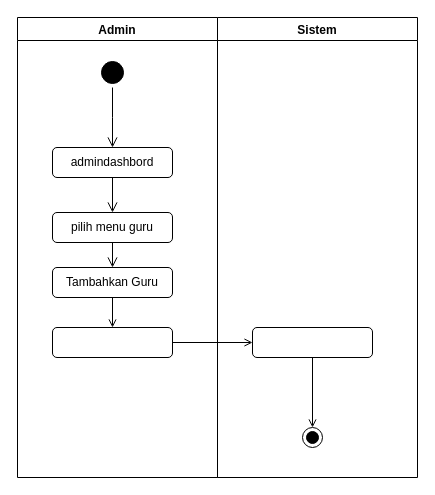
Some shapes in this 435 by 495 pixel diagram are drawn without their labels. The shapes that lost their labels are listed below. From the top down, each one's centre as x and y in pixels, then its label:
At (x=112, y=342): "Isi form, nama guru, jenis kelamin, dll".
At (x=312, y=342): "Berhasil Tambah guru".
